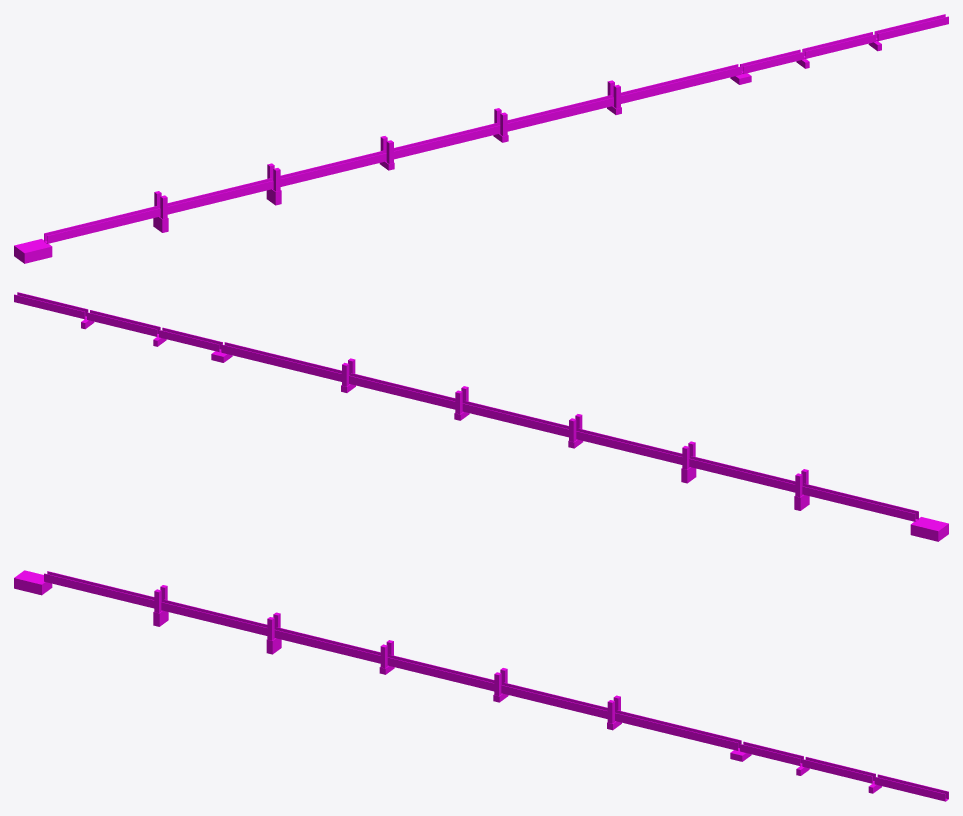
Rendered from bridge_road_lentze_1857_1912.colliders.glb.
The picture shows the model from 3 angles, top to bottom: view 1: azimuth 30°, elevation 25°; view 2: azimuth 150°, elevation 25°; view 3: azimuth 330°, elevation 25°; orthographic projection.
Parts seen in each view (by area): view 1: road_collider_truss_S_span_06, road_collider_truss_S_span_01, road_collider_truss_S_span_03, road_collider_truss_S_span_05, road_collider_truss_S_span_02, road_collider_truss_S_span_04, road_collider_abutment_west, road_collider_truss_S_span_09, road_collider_truss_S_span_08; view 2: road_collider_truss_N_span_06, road_collider_truss_N_span_01, road_collider_truss_N_span_03, road_collider_truss_N_span_05, road_collider_truss_N_span_02, road_collider_truss_N_span_04, road_collider_abutment_west, road_collider_truss_N_span_09, road_collider_truss_N_span_08; view 3: road_collider_truss_S_span_06, road_collider_truss_S_span_01, road_collider_truss_S_span_04, road_collider_truss_S_span_03, road_collider_truss_S_span_05, road_collider_truss_S_span_02, road_collider_abutment_west, road_collider_truss_S_span_09, road_collider_truss_S_span_08, road_collider_truss_S_span_07.
Boxes of the visible parts, <box> form: road_collider_truss_S_span_06: <box>621,66,741,103</box>; road_collider_truss_S_span_01: <box>47,208,160,243</box>; road_collider_truss_S_span_03: <box>280,153,386,186</box>; road_collider_truss_S_span_05: <box>507,97,613,131</box>; road_collider_truss_S_span_02: <box>167,180,273,214</box>; road_collider_truss_S_span_04: <box>394,125,500,159</box>; road_collider_abutment_west: <box>14,239,52,263</box>; road_collider_truss_S_span_09: <box>877,16,948,41</box>; road_collider_truss_S_span_08: <box>805,34,875,58</box>; road_collider_truss_N_span_06: <box>221,344,341,381</box>; road_collider_truss_N_span_01: <box>802,486,915,521</box>; road_collider_truss_N_span_03: <box>576,431,682,464</box>; road_collider_truss_N_span_05: <box>349,375,455,409</box>; road_collider_truss_N_span_02: <box>689,458,795,492</box>; road_collider_truss_N_span_04: <box>462,403,568,437</box>; road_collider_abutment_west: <box>910,517,948,541</box>; road_collider_truss_N_span_09: <box>14,294,85,319</box>; road_collider_truss_N_span_08: <box>87,312,157,336</box>; road_collider_truss_S_span_06: <box>615,712,738,750</box>; road_collider_truss_S_span_01: <box>44,573,154,608</box>; road_collider_truss_S_span_04: <box>387,657,494,691</box>; road_collider_truss_S_span_03: <box>274,629,380,663</box>; road_collider_truss_S_span_05: <box>501,685,607,718</box>; road_collider_truss_S_span_02: <box>161,602,267,635</box>; road_collider_abutment_west: <box>14,570,52,595</box>; road_collider_truss_S_span_09: <box>874,777,945,801</box>; road_collider_truss_S_span_08: <box>802,759,872,783</box>; road_collider_truss_S_span_07: <box>740,744,800,765</box>.
Bounding box in the file's own units: 1067 × 37.8 × 21.
